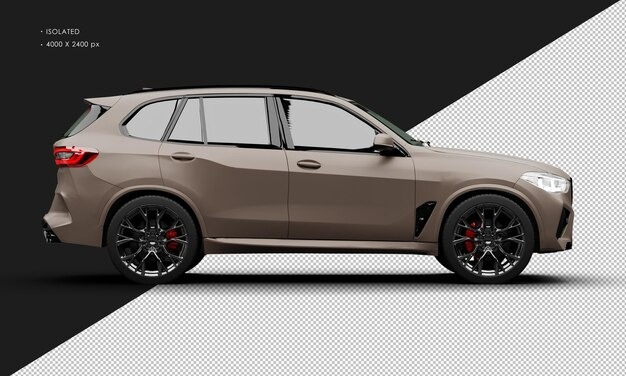car: (29, 79, 590, 274)
